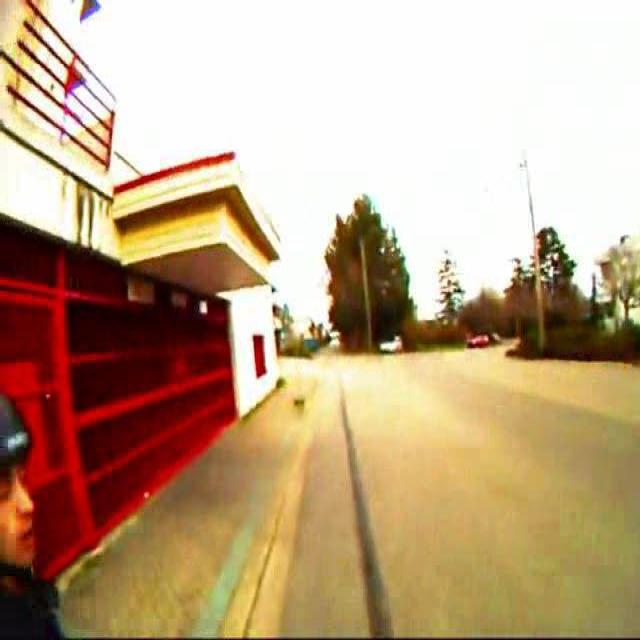other: (36, 275, 220, 495), (108, 200, 267, 294), (273, 216, 343, 412)
